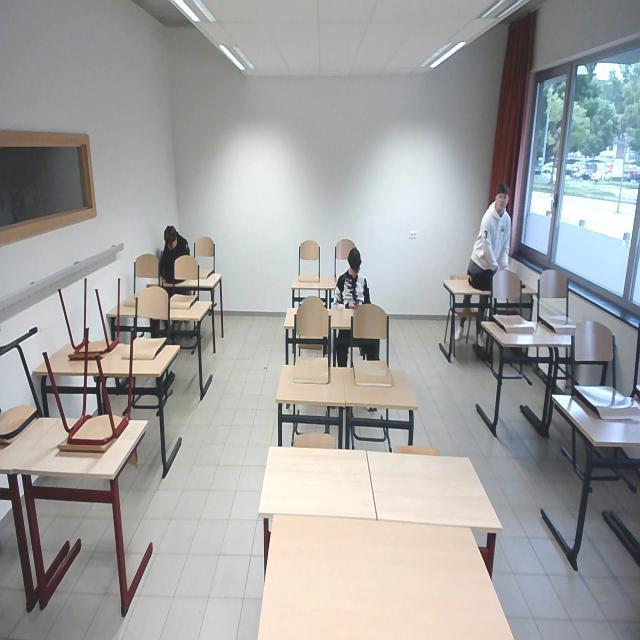Looking forward: (495, 184, 508, 214)
Phone use: (334, 248, 372, 312), (156, 222, 192, 272)
